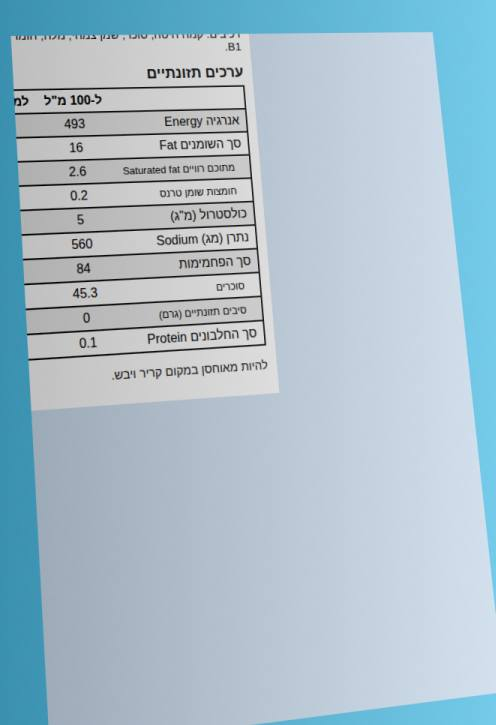carbs: (74, 260, 93, 278)
energy: (62, 115, 87, 133)
fat: (67, 139, 85, 156)
protein: (77, 334, 99, 353)
